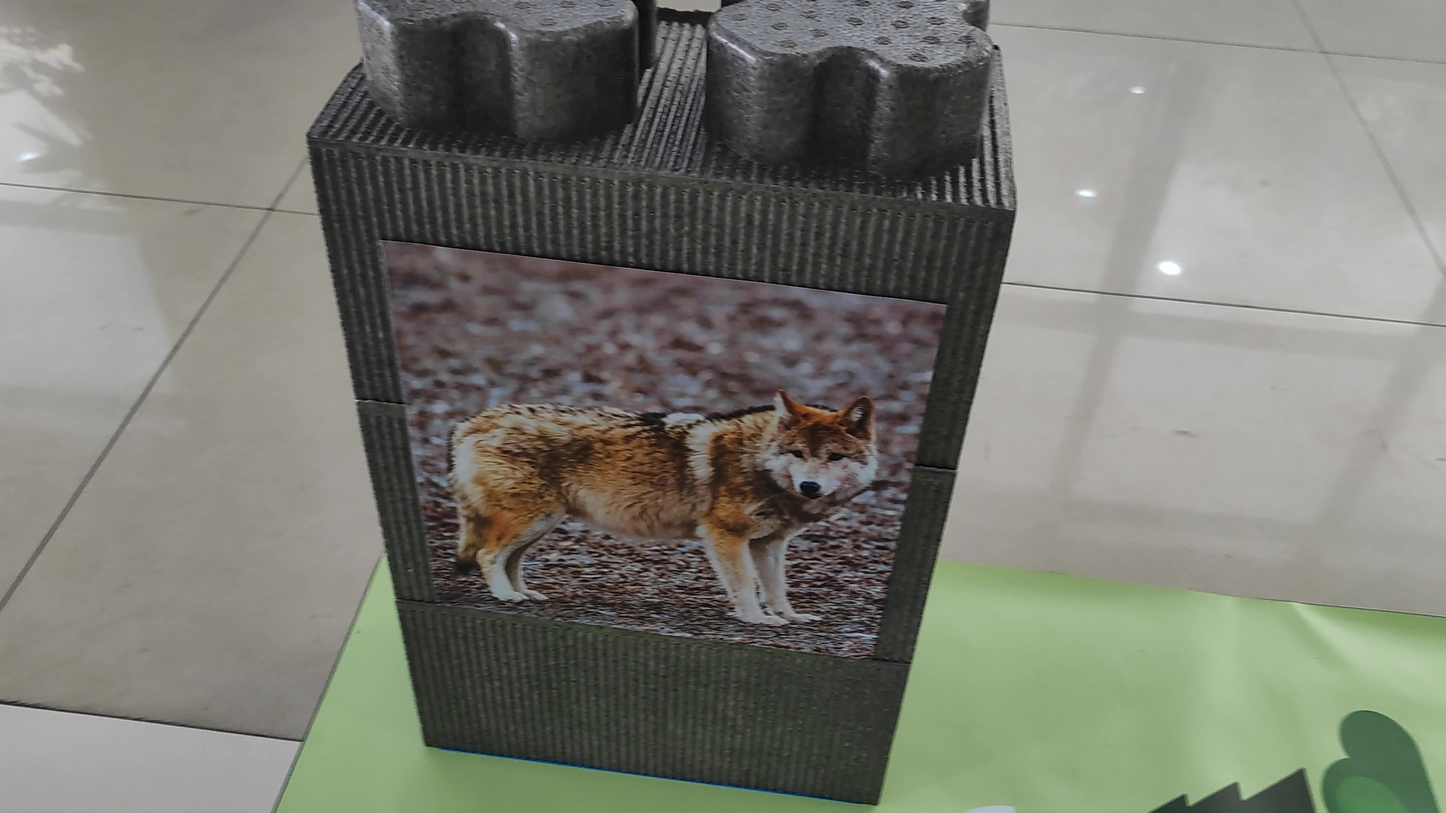wolf: (409, 305, 910, 650)
